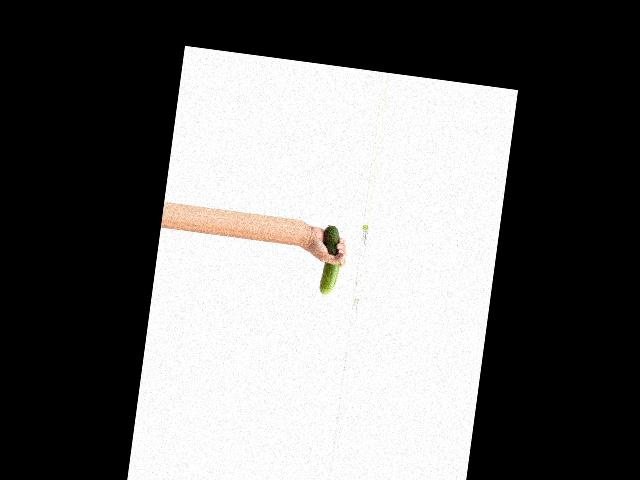cucumber: (316, 225, 345, 296)
